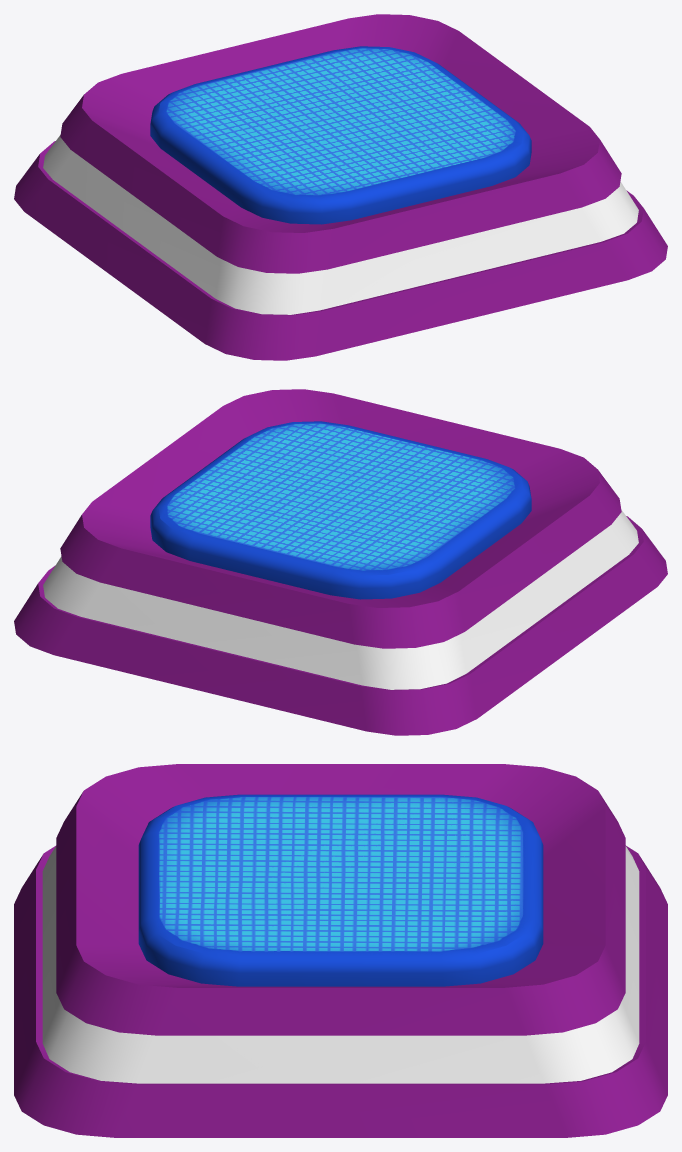
Rendered from PLF0110062.fbx.
The picture shows the model from 3 angles, top to bottom: view 1: azimuth 30°, elevation 25°; view 2: azimuth 150°, elevation 25°; view 3: azimuth 270°, elevation 25°; orthographic projection. The views are drawn at different scales.
Visible parts, largest first — view 1: smPLF0110062; view 2: smPLF0110062; view 3: smPLF0110062.
Part boxes in pixels (x1,y1,x2,y2): smPLF0110062: (14,14,667,360); smPLF0110062: (14,389,667,735); smPLF0110062: (14,764,667,1137).
Size of the model in its own units: 284 by 60.36 by 284.
1 material, 1 textured.
